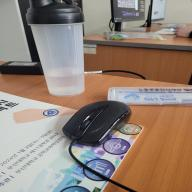mouse: (64, 99, 132, 146)
